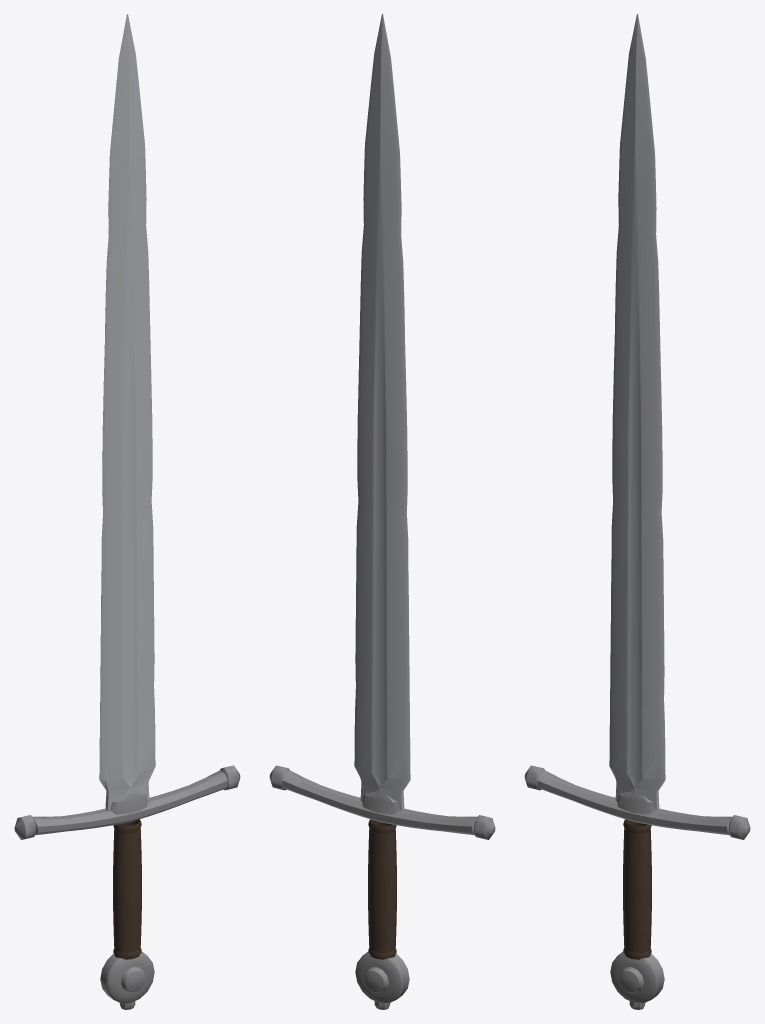
File: gear_sword.glb
The picture shows the model from 3 angles, left to right: view 1: azimuth 30°, elevation 25°; view 2: azimuth 150°, elevation 25°; view 3: azimuth 330°, elevation 25°; orthographic projection.
Parts seen in each view (by area): view 1: gear_sword; view 2: gear_sword; view 3: gear_sword.
Part boxes in pixels (x1=…): gear_sword: x1=14, y1=14, x2=240, y2=1009; gear_sword: x1=269, y1=14, x2=495, y2=1009; gear_sword: x1=524, y1=14, x2=750, y2=1009.
Size of the model in its own units: 0.276 by 1.18 by 0.0384.
